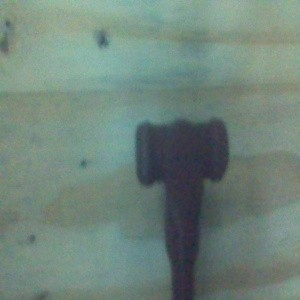palu: (134, 115, 229, 300)
